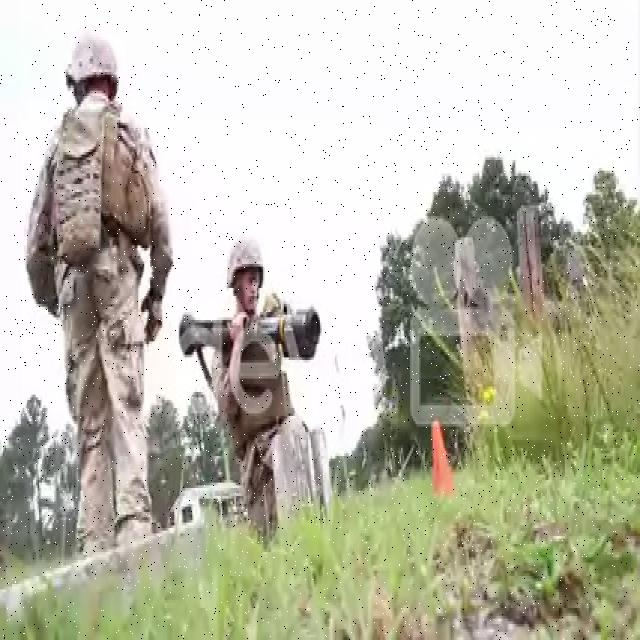bazooka: (178, 305, 324, 362)
